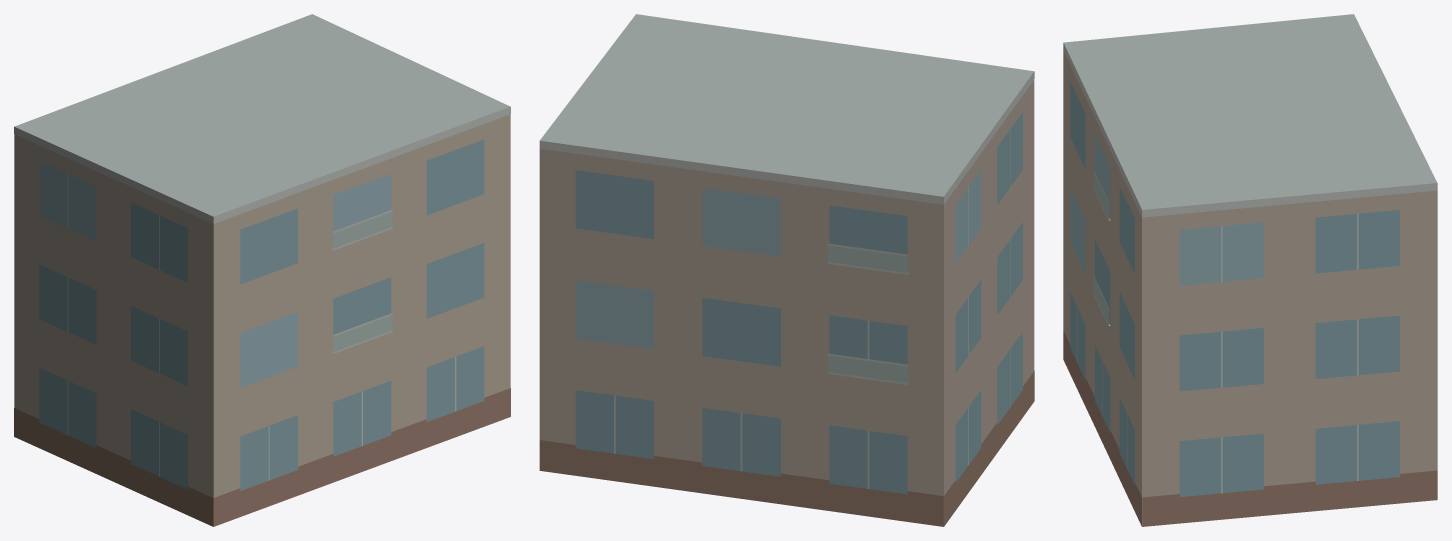
File: survey-upis-32615355.glb
The picture shows the model from 3 angles, left to right: view 1: azimuth 30°, elevation 25°; view 2: azimuth 150°, elevation 25°; view 3: azimuth 270°, elevation 25°; orthographic projection. The views are drawn at different scales.
Visible parts, largest first — view 1: survey-upis-32615355.tmp; view 2: survey-upis-32615355.tmp; view 3: survey-upis-32615355.tmp.
Part boxes in pixels (x1=…): survey-upis-32615355.tmp: x1=14, y1=14, x2=510, y2=526; survey-upis-32615355.tmp: x1=539, y1=14, x2=1034, y2=526; survey-upis-32615355.tmp: x1=1063, y1=14, x2=1437, y2=526.
Bounding box in the file's own units: 13.53 × 10.2 × 10.92.
